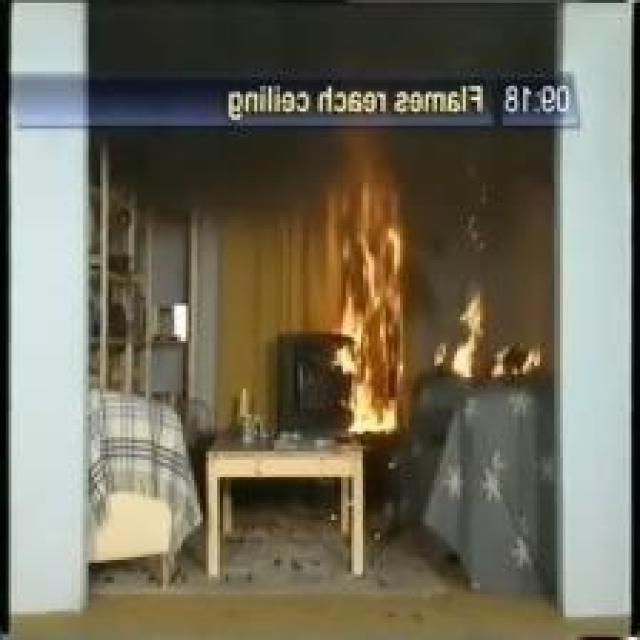fire: (327, 173, 462, 450)
